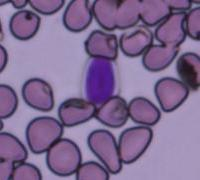L: (80, 56, 122, 106)
